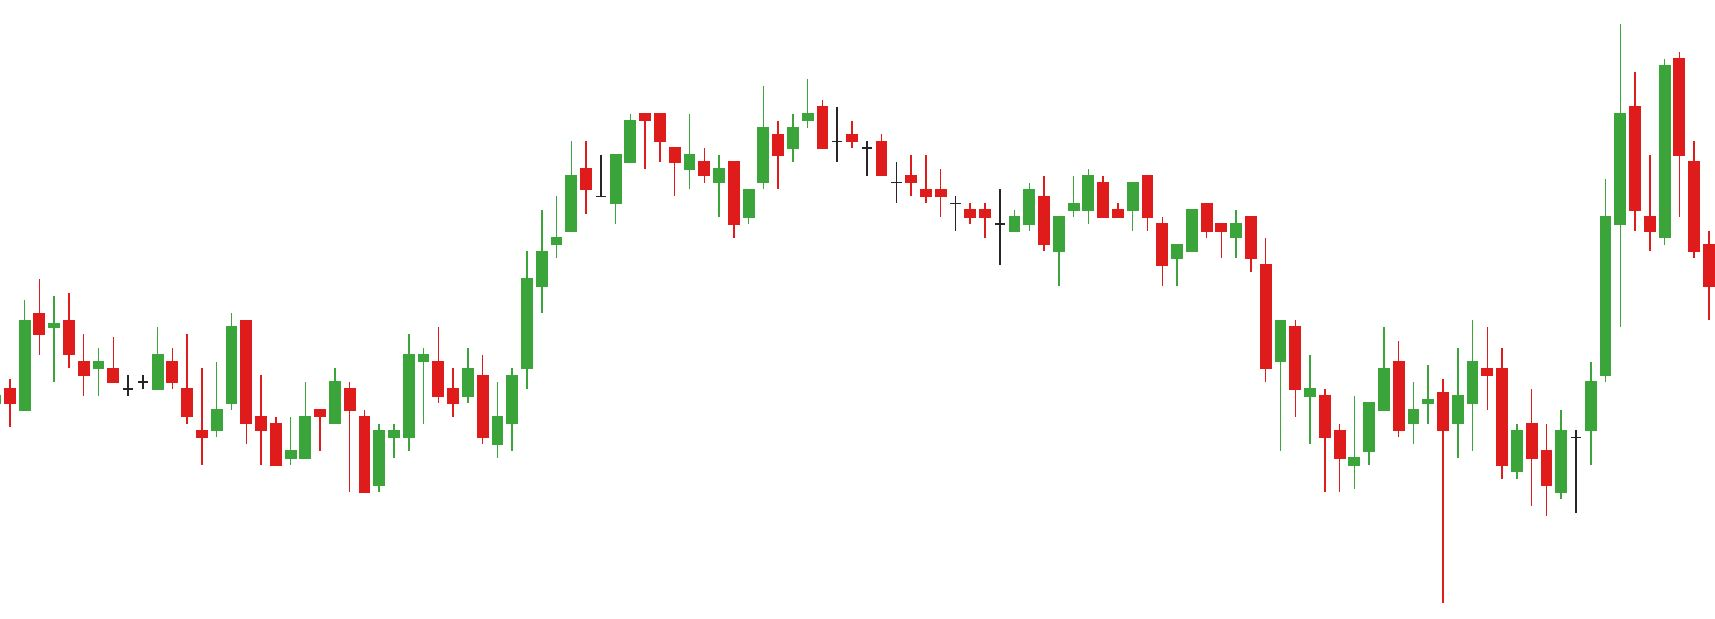buy: (1317, 379, 1449, 607), (254, 407, 388, 497)
sell: (639, 89, 787, 197)
